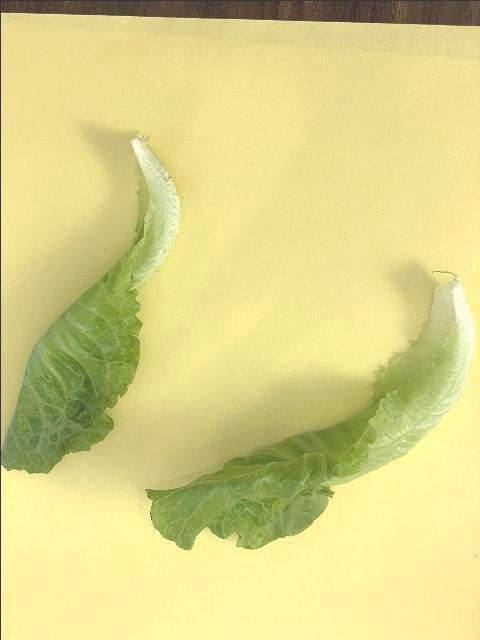lettuce: (141, 270, 476, 550), (0, 135, 180, 473)
